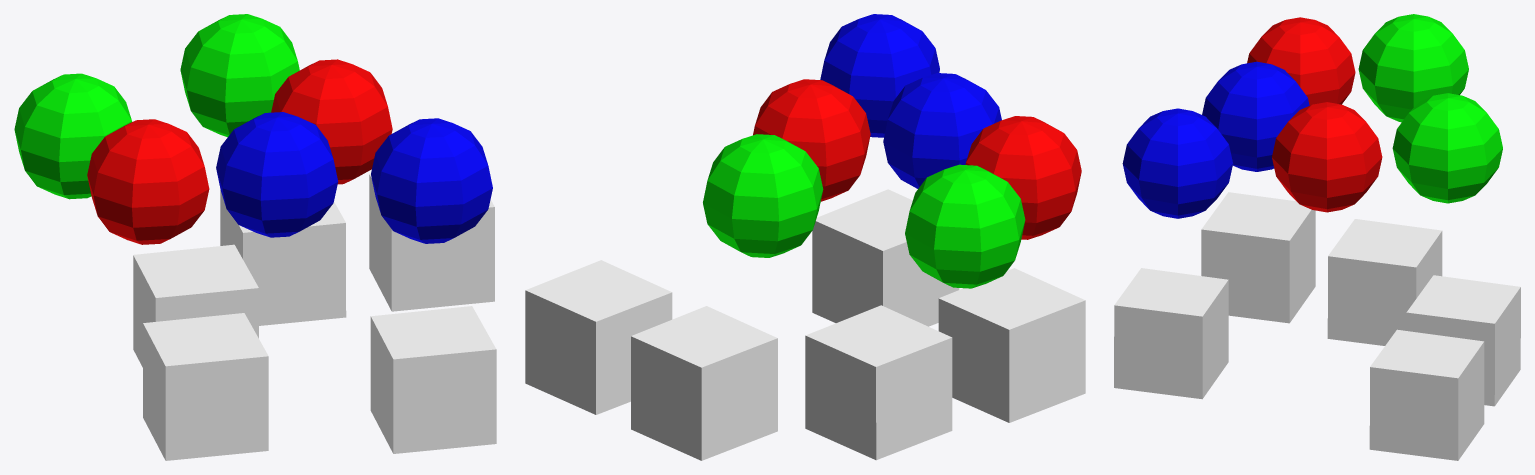
File: centered_ground.obj
3 renders of one model, left to right at view 1: azimuth 30°, elevation 25°; view 2: azimuth 150°, elevation 25°; view 3: azimuth 270°, elevation 25°, orthographic. The views are drawn at different scales.
Parts seen in each view (by area): view 1: cube1, cube5, sphere4, sphere3, sphere1, sphere2, cube2, sphere5, cube4, cube3, sphere6; view 2: cube3, cube2, cube5, cube4, cube1, sphere5, sphere2, sphere1, sphere3, sphere4, sphere6; view 3: cube4, cube1, cube5, cube3, sphere4, sphere2, sphere6, sphere5, cube2, sphere1, sphere3.
Part boxes in pixels (x1,y1,x2,y2): cube1: (370,306,496,453); cube5: (143,313,268,460); sphere4: (371,118,492,243); sphere3: (87,119,209,244); sphere1: (216,112,338,237); sphere2: (180,14,299,137); cube2: (220,190,346,325); sphere5: (14,73,131,199); cube4: (369,173,494,311); cube3: (133,244,258,367); sphere6: (271,59,392,184); cube3: (805,305,952,460); cube2: (631,306,777,460); cube5: (938,268,1085,422); cube4: (525,260,672,414); cube1: (812,189,959,326); sphere5: (905,164,1025,288); sphere2: (703,134,823,257); sphere1: (883,73,1001,188); sphere3: (965,116,1081,239); sphere4: (820,14,939,137); sphere6: (753,79,870,201); cube4: (1369,329,1484,460); cube1: (1114,268,1228,399); cube5: (1201,192,1315,323); cube3: (1327,219,1442,345); sphere4: (1122,108,1233,218); sphere2: (1392,93,1502,203); sphere6: (1272,102,1382,212); sphere5: (1358,14,1468,122); cube2: (1406,275,1520,406); sphere1: (1202,61,1309,171); sphere3: (1247,17,1355,105).
Size of what is drawn, in the model's own units: 2.17 by 1.31 by 1.84.
